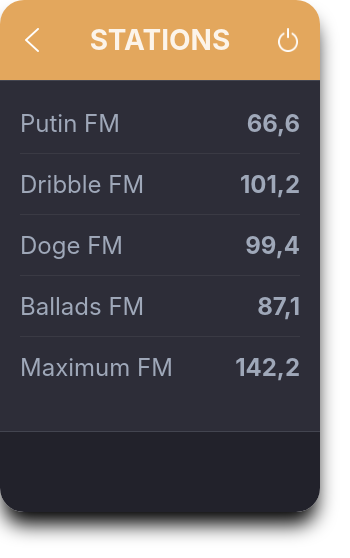
Test case: RadioWidget › that can be toggled on and off
Note: Toggle on
What coordinates should you click on to do the following:
click the button "Putin FM 66,6"
I would click on:
 (70, 124)
Its box is [12, 101, 308, 146].
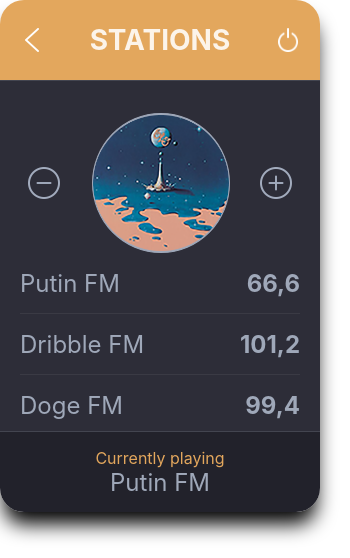
Expected: the 3rd button named "Previous" is shown, [20, 159, 68, 207]
Expected: the message "Currently playing Putin FM" is shown, [95, 448, 225, 497]
Note: Toggle off
What coordinates should you click on to do the following:
click the button "Putin FM 66,6"
I would click on:
 (70, 284)
Its box is [12, 261, 308, 306].
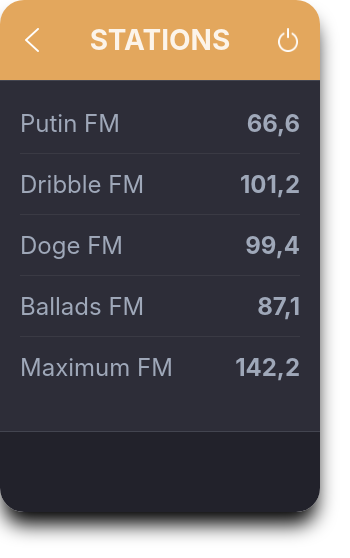
Expected: the message "Currently playing Putin FM" is gone
